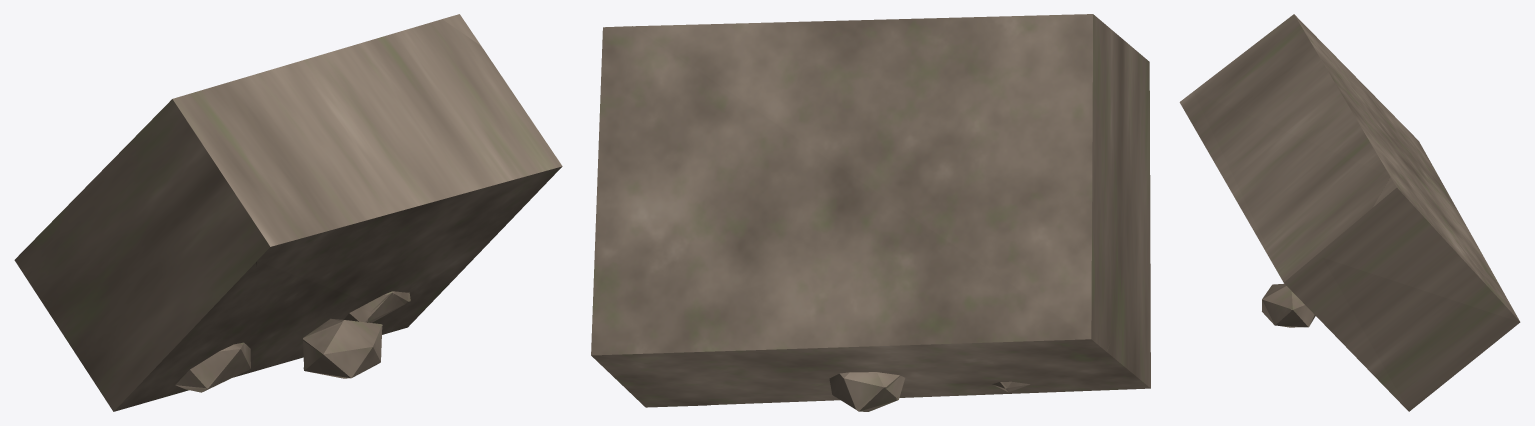
The model's file is Rock_03_Slab.fbx.
The picture shows the model from 3 angles, left to right: view 1: azimuth 30°, elevation 25°; view 2: azimuth 150°, elevation 25°; view 3: azimuth 270°, elevation 25°; orthographic projection. The views are drawn at different scales.
Visible parts, largest first — view 1: Rock_03_Slab; view 2: Rock_03_Slab; view 3: Rock_03_Slab.
Part boxes in pixels (box(x1,y1,x2,y2)): Rock_03_Slab: box(14, 14, 562, 411); Rock_03_Slab: box(591, 14, 1150, 411); Rock_03_Slab: box(1179, 14, 1520, 411).
Size of the model in its own units: 2.7 by 2 by 2.21.
1 material, 1 textured.
